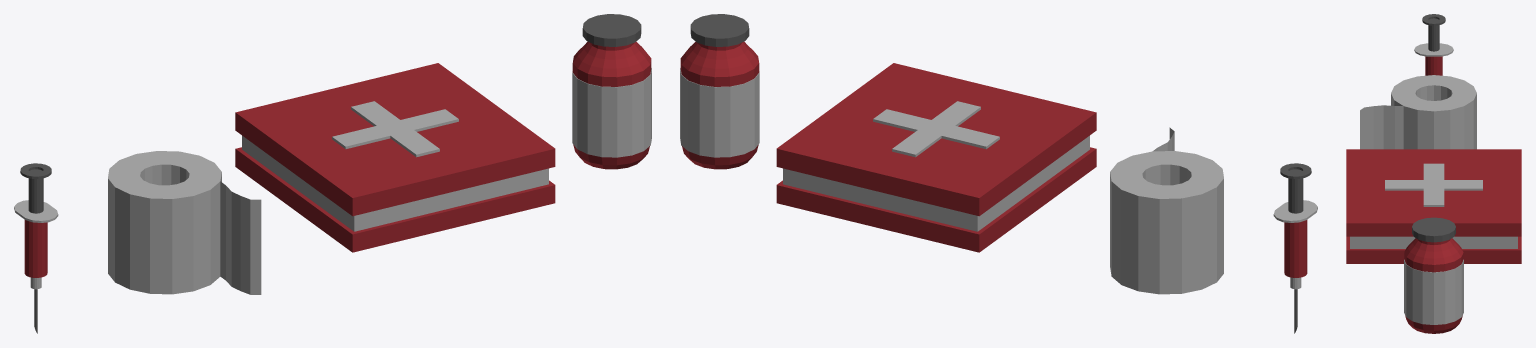
File: Health Items.fbx
3 views of the same model, side by side, from view 1: azimuth 30°, elevation 25°; view 2: azimuth 150°, elevation 25°; view 3: azimuth 270°, elevation 25° (orthographic). The views are drawn at different scales.
Visible parts, largest first — view 1: Health Pack, Bandage, Health Bottle, Syringe; view 2: Health Pack, Bandage, Health Bottle, Syringe; view 3: Health Pack, Bandage, Health Bottle, Syringe.
Boxes of the visible parts, x1,y1,x2,y2 form: Health Pack: (235,63,555,252); Bandage: (108,151,261,294); Health Bottle: (572,14,651,169); Syringe: (14,163,58,333); Health Pack: (776,63,1096,252); Bandage: (1110,127,1223,294); Health Bottle: (680,14,759,169); Syringe: (1273,163,1317,333); Health Pack: (1346,149,1521,263); Bandage: (1360,75,1476,149); Health Bottle: (1404,217,1463,333); Syringe: (1414,14,1453,75).
Bounding box in the file's own units: 10589 × 2704 × 3429.
